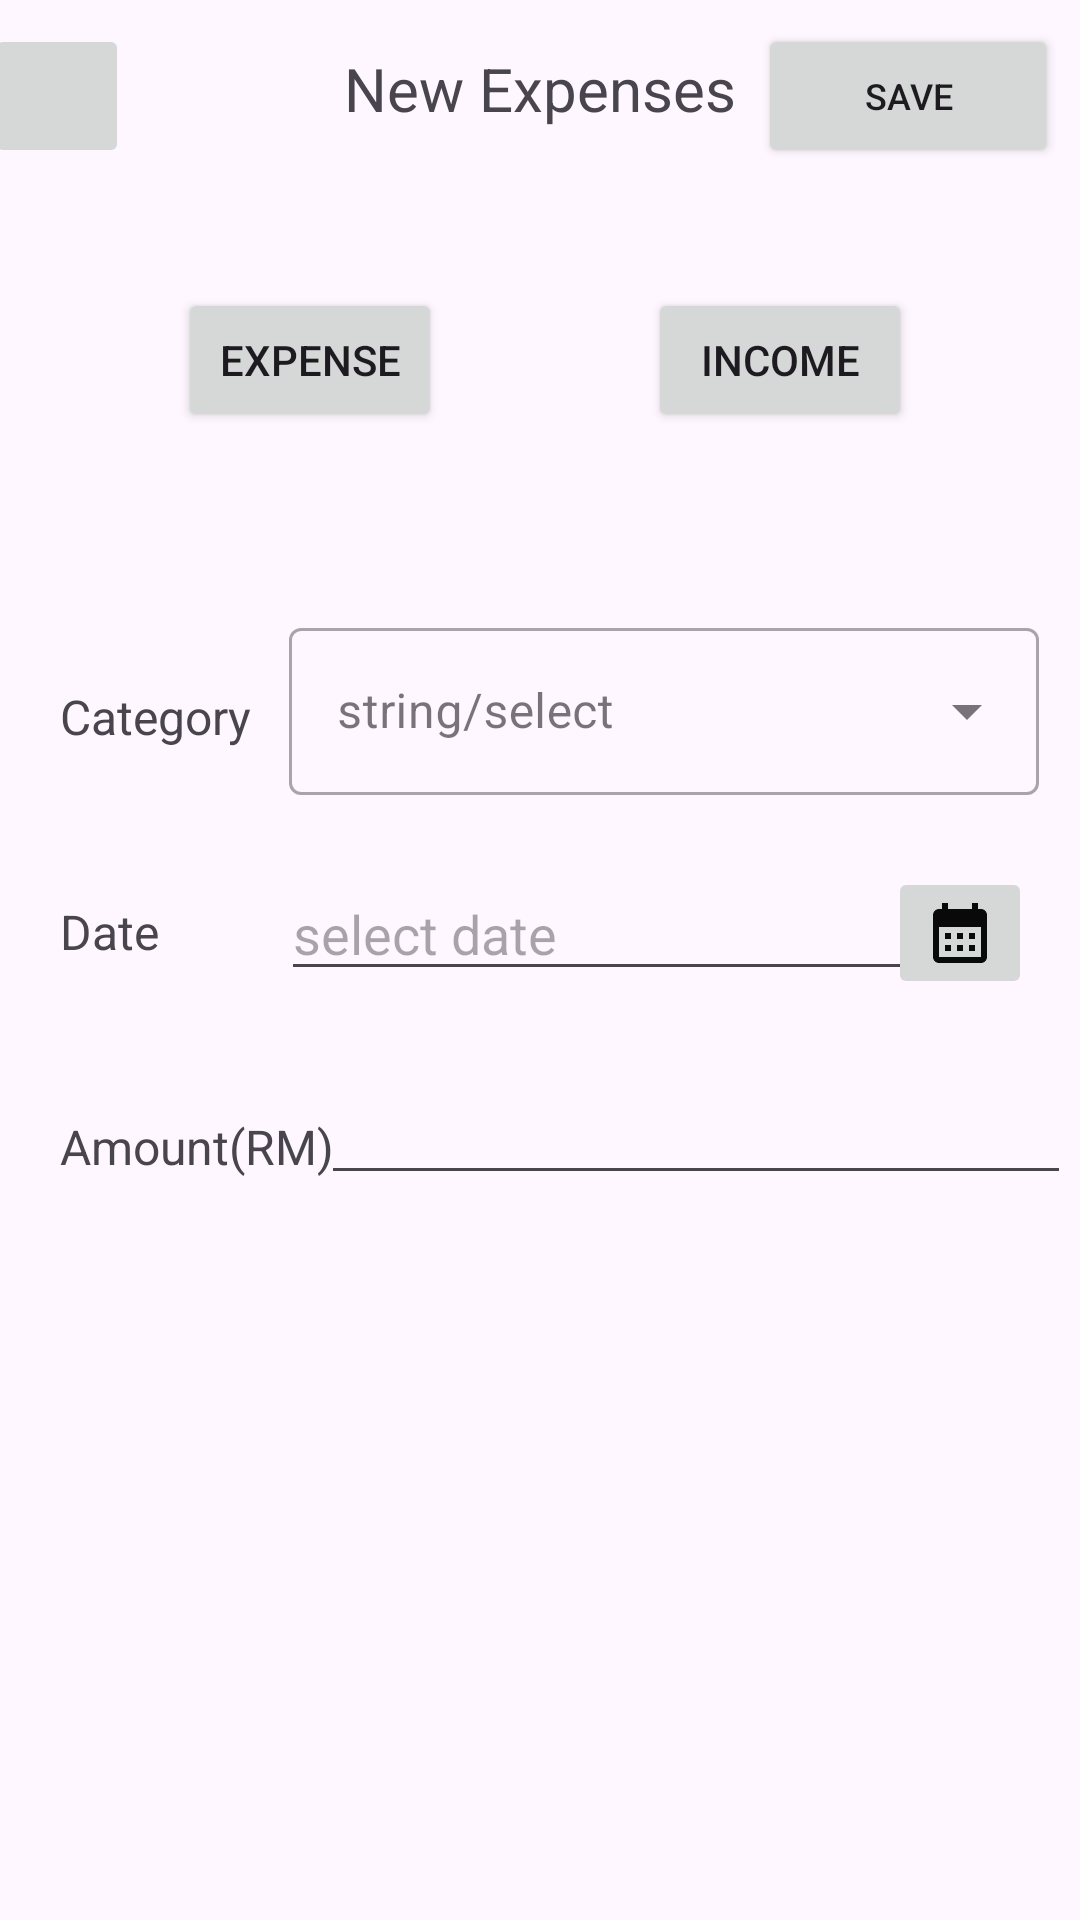

Screen size 1080 × 1920. Icon name, then its center in pixels as (x,y):
calendar month: (954,933)
